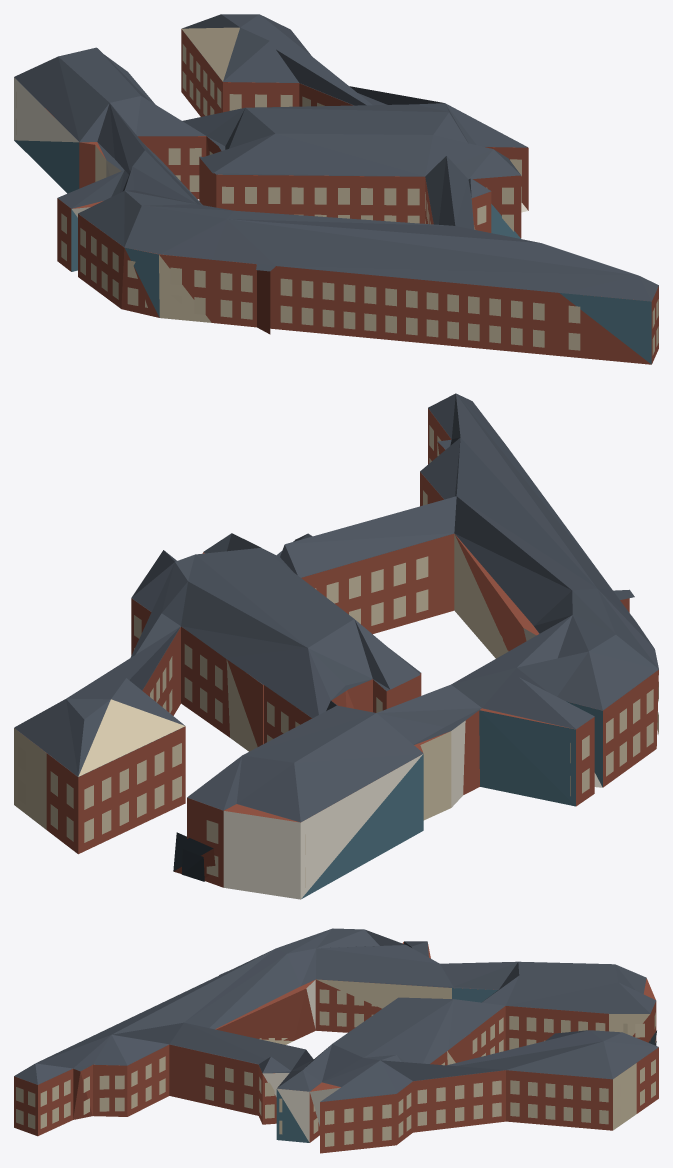
File: amsterdam-museum.lod2.glb
3 views of the same model, one above another, from view 1: azimuth 30°, elevation 25°; view 2: azimuth 150°, elevation 25°; view 3: azimuth 270°, elevation 25° (orthographic). The views are drawn at different scales.
Parts seen in each view (by area): view 1: lod2; view 2: lod2; view 3: lod2.
Boxes of the visible parts, left/top/right/bottom form: lod2: left=14, top=14, right=658, bottom=364; lod2: left=14, top=393, right=658, bottom=899; lod2: left=14, top=928, right=658, bottom=1153.
Size of the model in its own units: 71.27 by 15.43 by 121.
